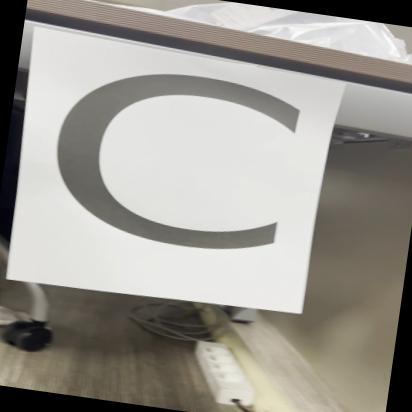seat: (5, 27, 334, 314)
